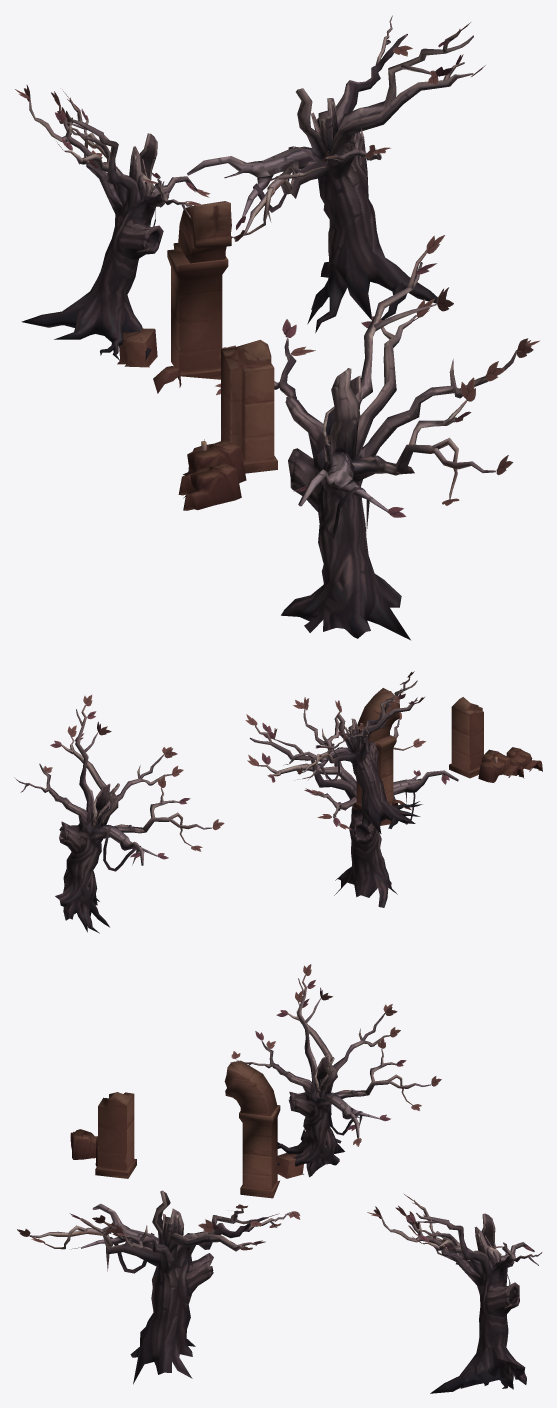
Rendered from boss5_wujian_1.fbx.
3 views of the same model, one above another, from view 1: azimuth 30°, elevation 25°; view 2: azimuth 150°, elevation 25°; view 3: azimuth 270°, elevation 25° (orthographic). The views are drawn at different scales.
Parts seen in each view (by area): view 1: boss5_wujian_1; view 2: boss5_wujian_1; view 3: boss5_wujian_1.
Boxes of the visible parts, bbox=[...] form: boss5_wujian_1: bbox=[15, 15, 539, 640]; boss5_wujian_1: bbox=[14, 671, 542, 933]; boss5_wujian_1: bbox=[17, 964, 542, 1393].
Size of the model in its own units: 3041 by 2662 by 3660.
